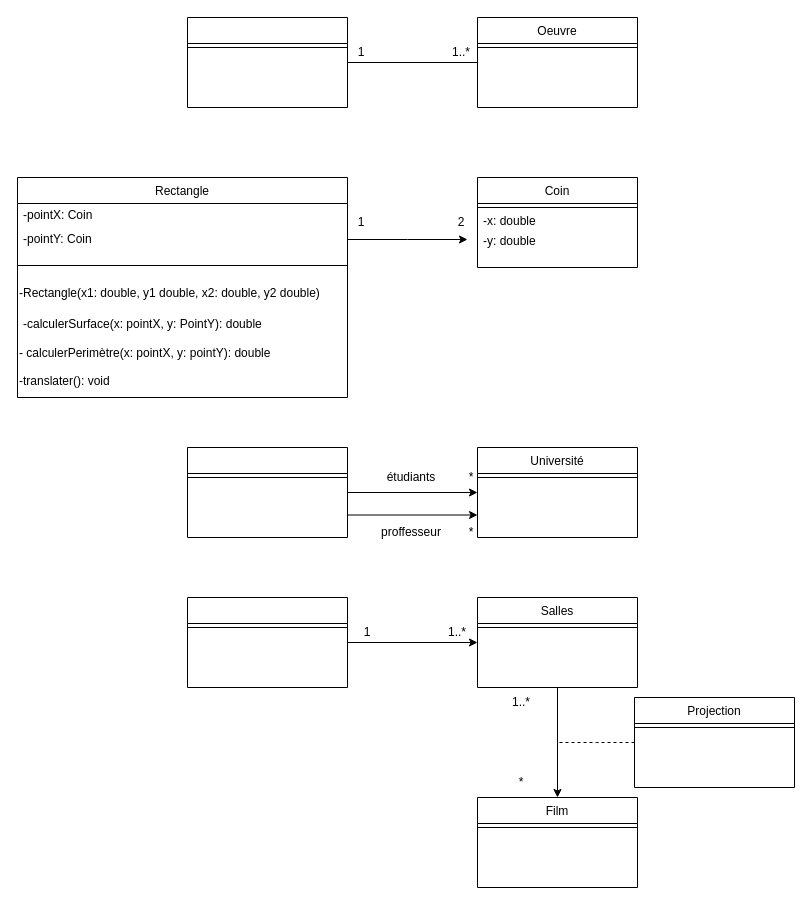
This 812x905 diagram has some shape labels left out. Here are the shapes that lost their labels. From the top down, the centre of each, then its label:
At [267,62]: "Ecrivain".
At [267,492]: "Personne".
At [267,642]: "Cinéma".
